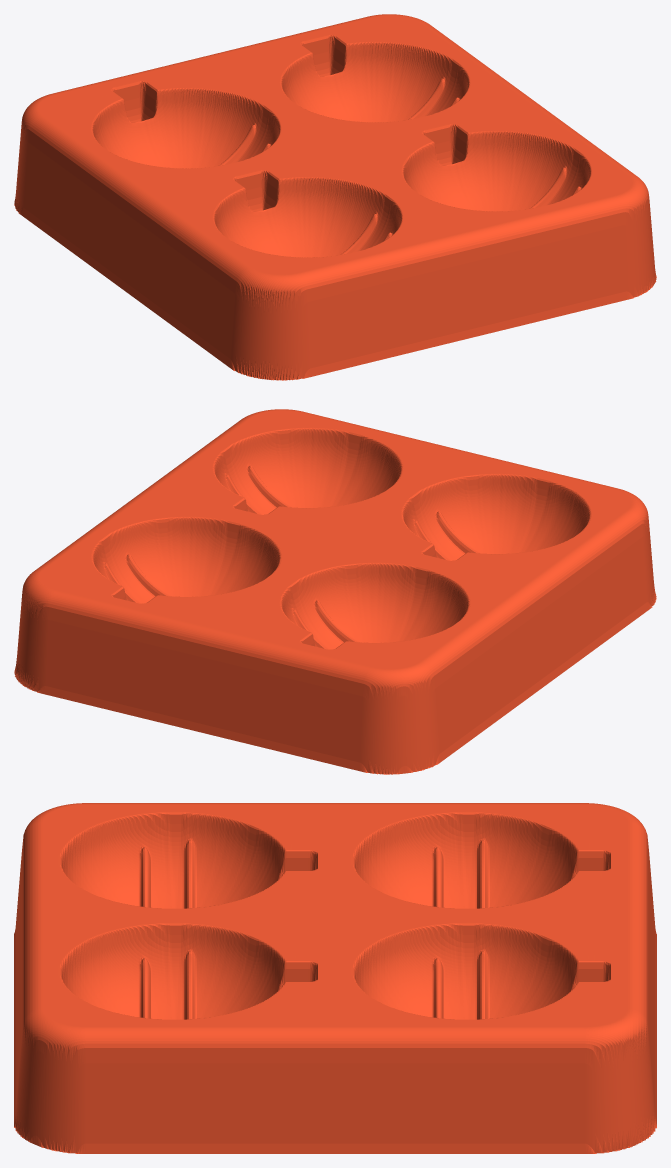
The model's file is mold.glb.
The picture shows the model from 3 angles, top to bottom: view 1: azimuth 30°, elevation 25°; view 2: azimuth 150°, elevation 25°; view 3: azimuth 270°, elevation 25°; orthographic projection. The views are drawn at different scales.
Visible parts, largest first — view 1: geometry_0; view 2: geometry_0; view 3: geometry_0.
Part boxes in pixels (<box>): geometry_0: <box>14,14,656,380</box>; geometry_0: <box>14,409,656,774</box>; geometry_0: <box>14,803,656,1153</box>.
Size of the model in its own units: 0.0732 by 0.0159 by 0.0808.
